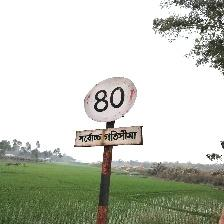Speed-limit: (75, 76, 142, 148)
